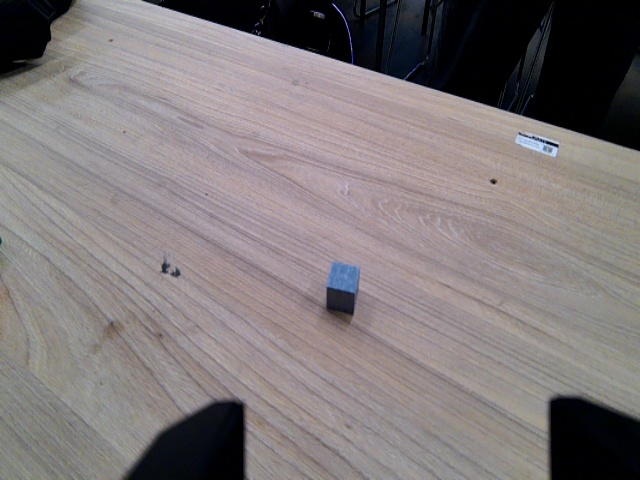stone: (317, 259, 367, 317)
